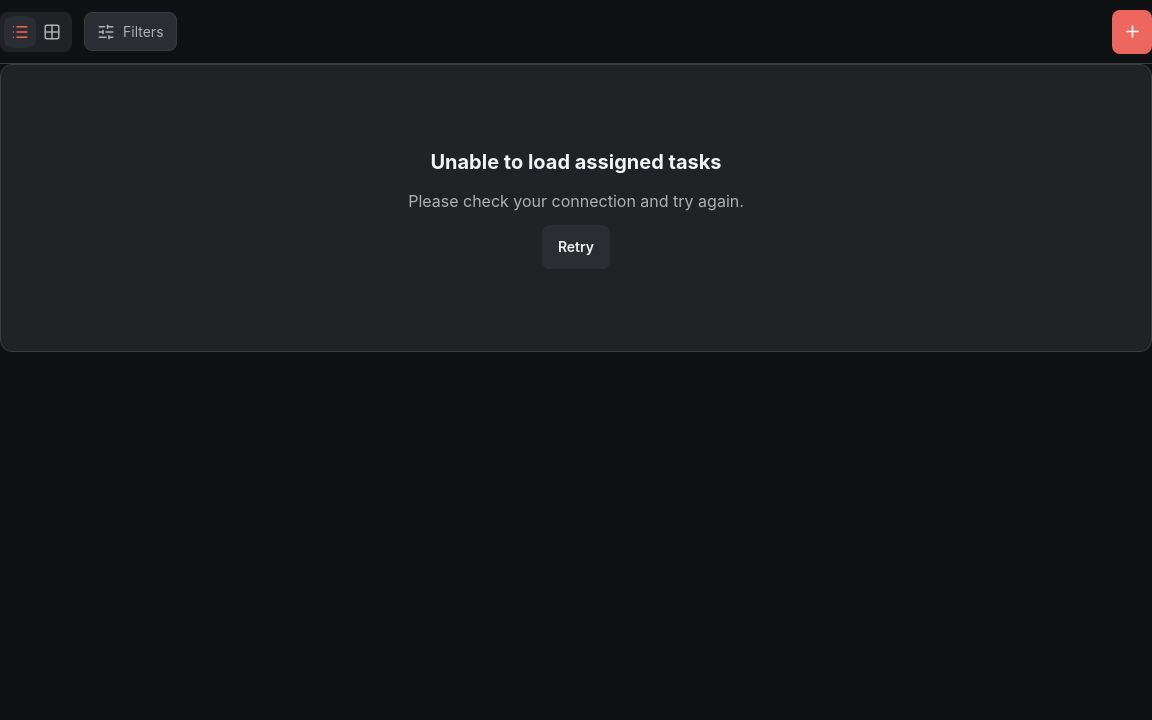
it: MyTasksPage › retries the profile and assigned-task requests after an error
Expected: the message shows "Unable to load assigned tasks", left=430, top=150, right=722, bottom=174
Click the button "Retry": click(576, 247) left=542, top=225, right=610, bottom=269
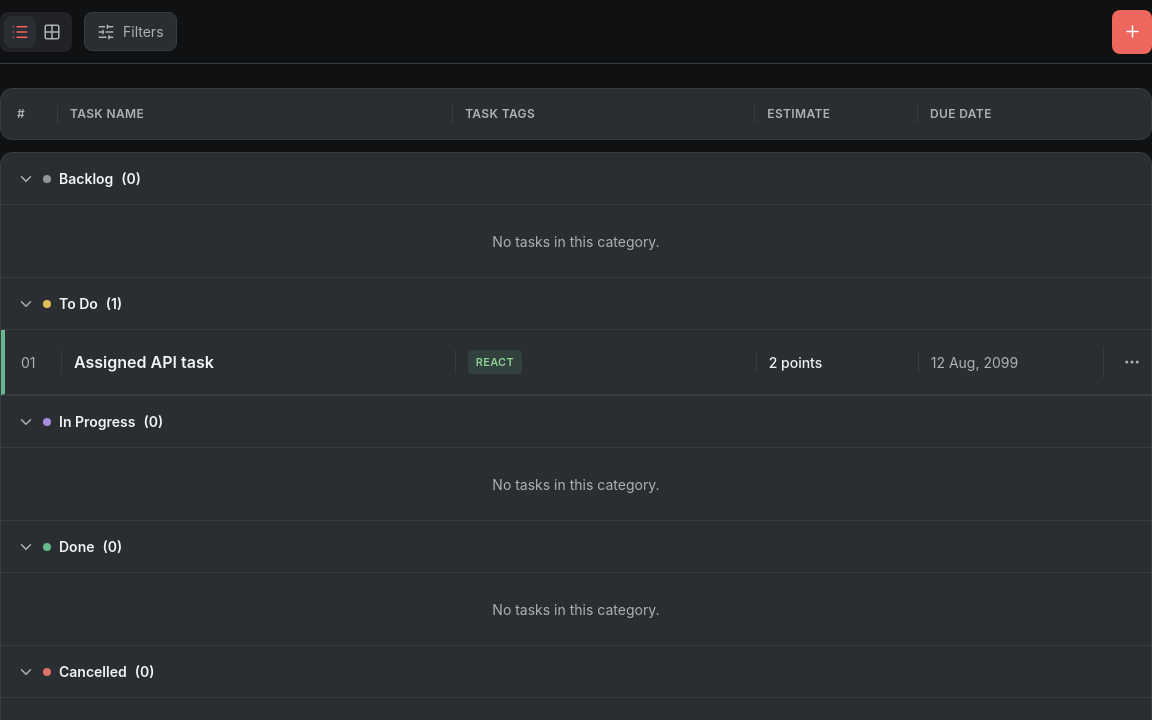
Now the element "Assigned API task" is shown, box left=1, top=330, right=1151, bottom=395
